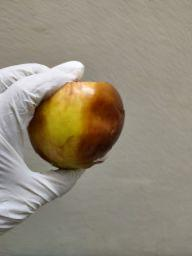Apple Semirotten: (29, 82, 127, 166)
